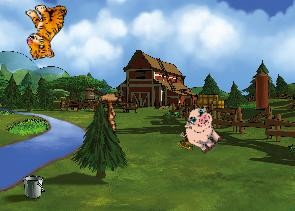eagle: (81, 76, 139, 134)
pig: (174, 102, 230, 158)
tiger: (20, 0, 73, 60)
